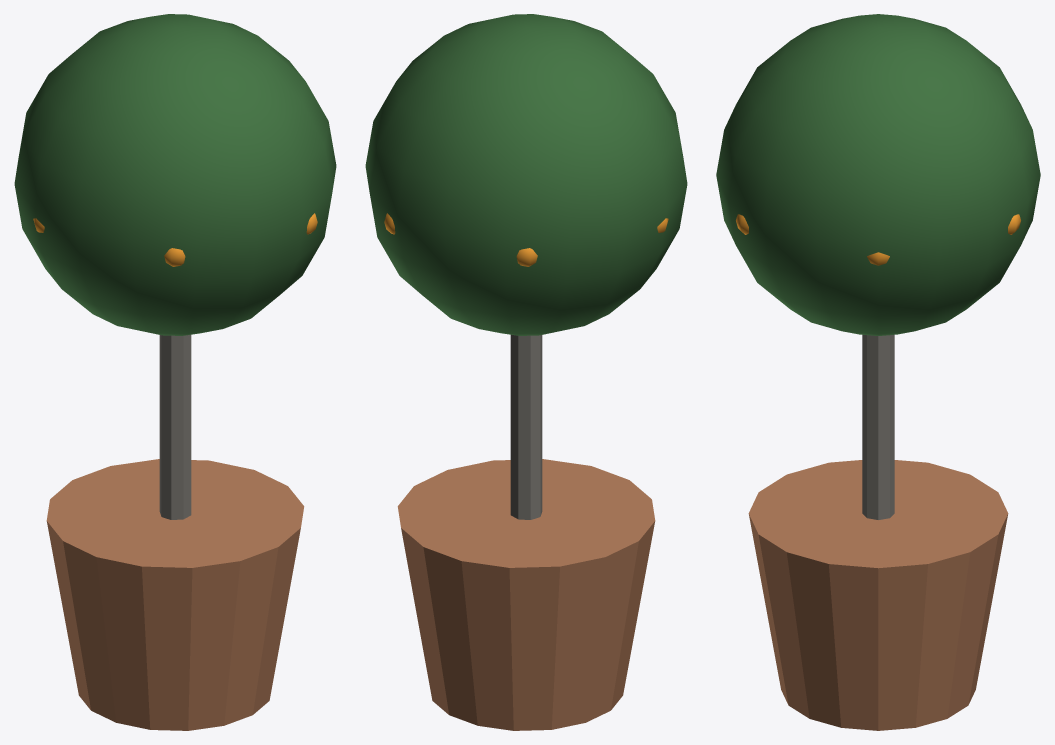
Rendered from Planter.glb.
3 renders of one model, left to right at view 1: azimuth 30°, elevation 25°; view 2: azimuth 150°, elevation 25°; view 3: azimuth 270°, elevation 25°, orthographic.
Visible parts, largest first — view 1: Planter; view 2: Planter; view 3: Planter.
Boxes of the visible parts, bbox=[...] form: Planter: bbox=[14, 14, 336, 730]; Planter: bbox=[365, 14, 687, 730]; Planter: bbox=[716, 14, 1040, 730].
Size of the model in its own units: 1 by 2.25 by 1.
